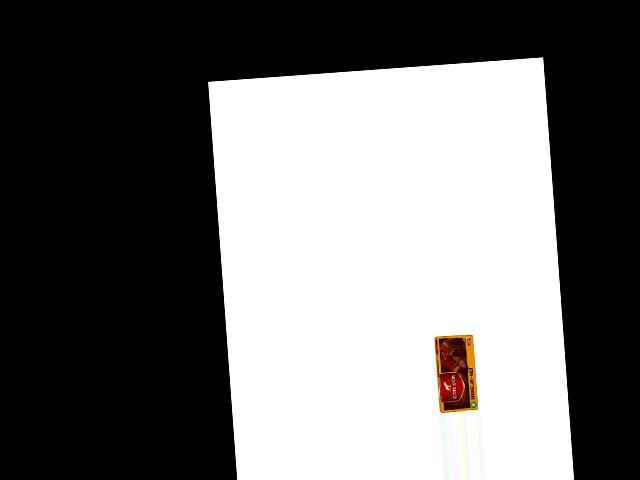chocolate: (432, 332, 484, 413)
